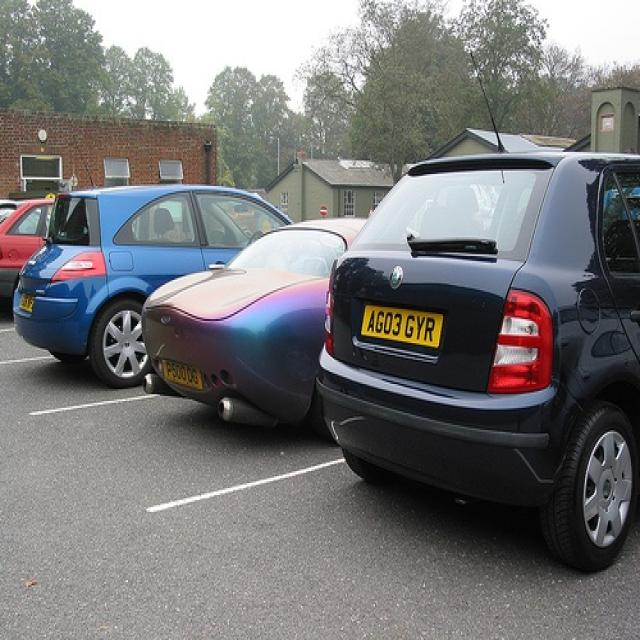car: (312, 148, 639, 578), (9, 181, 298, 391), (140, 213, 371, 449), (0, 194, 56, 315)
